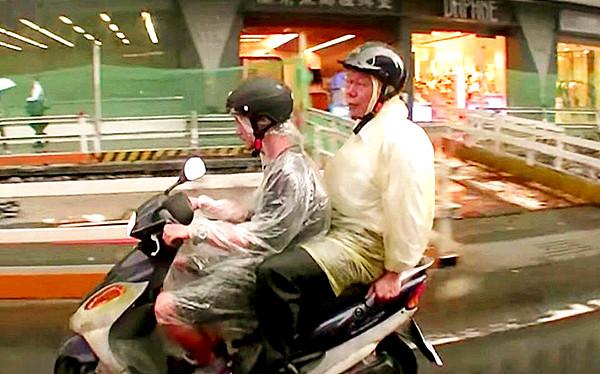helmet: (339, 41, 410, 94), (225, 77, 297, 125)
